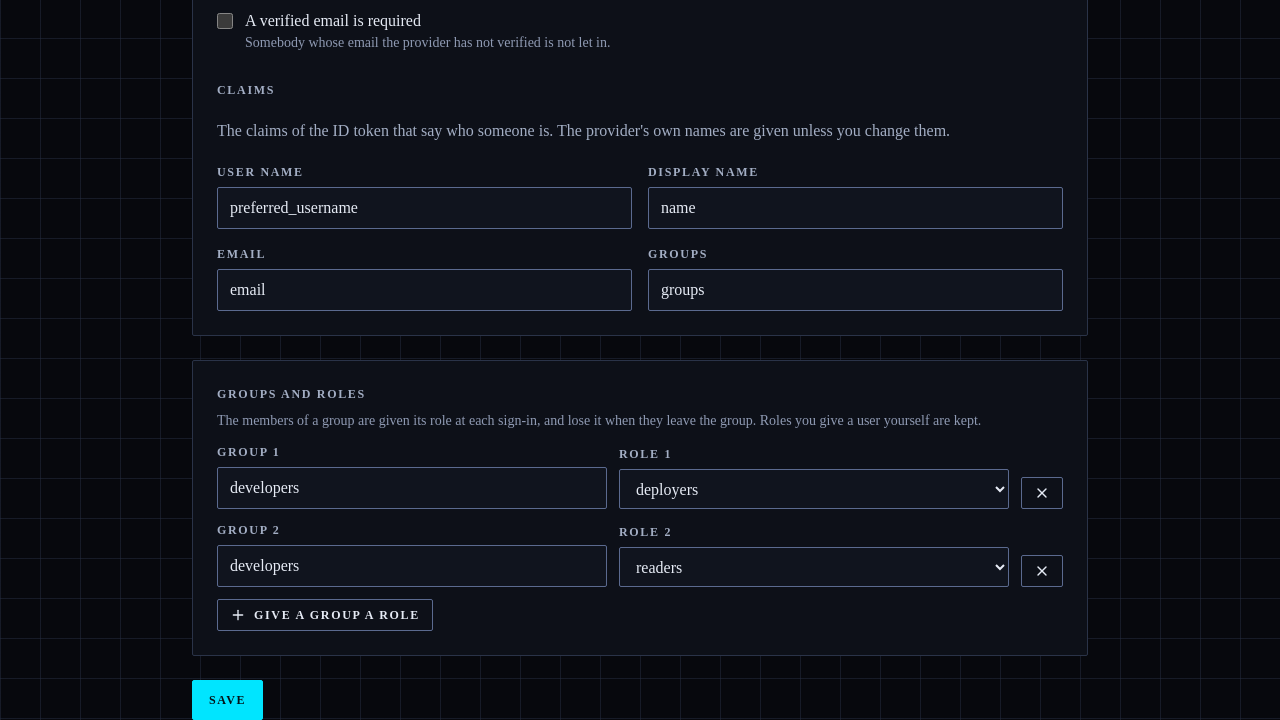
an OIDC source › opens with what it has, its mapping a row a role, and keeps its secret when saved
(page scrolled)
Expected: the field labelled "Group 1" holds "developers", left=217, top=467, right=607, bottom=509
Expected: the dropdown labelled "Role 2" shows "readers", left=619, top=547, right=1009, bottom=587
Click the button named "Remove row 1" at (1042, 493), box left=1021, top=477, right=1063, bottom=509
(page scrolled)
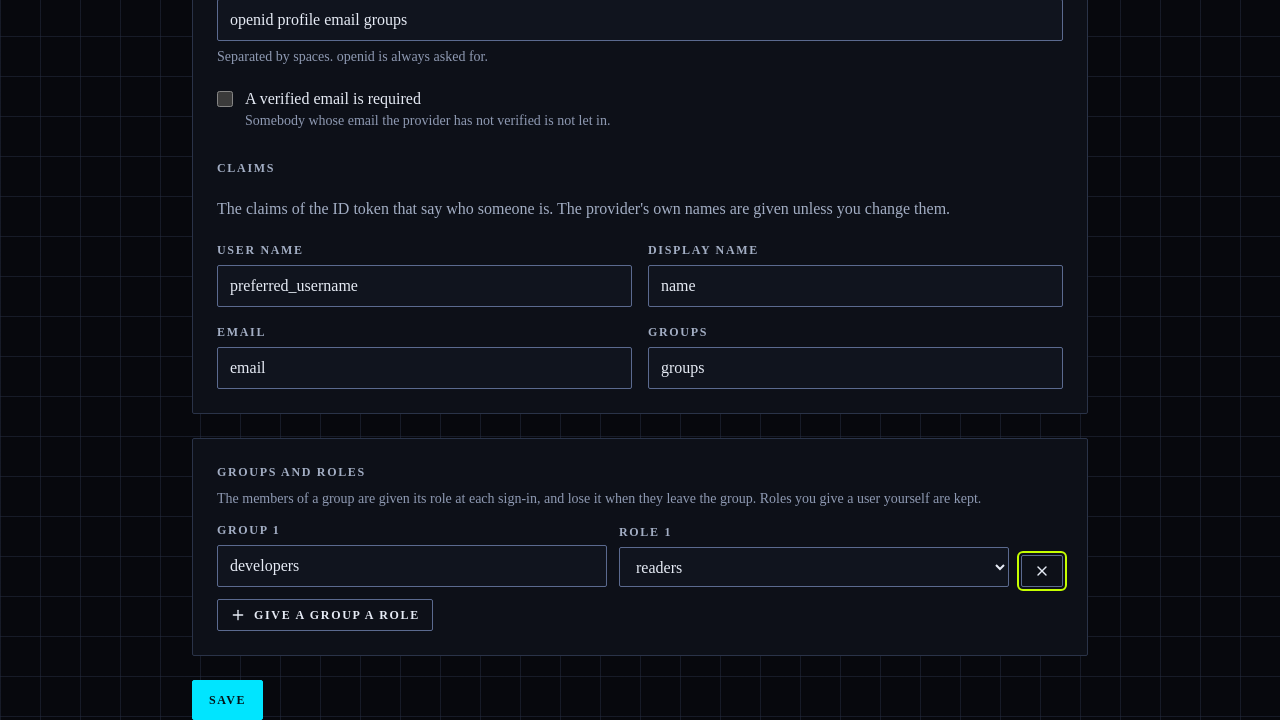
Click the button "Save" at (228, 700), box left=192, top=680, right=263, bottom=719
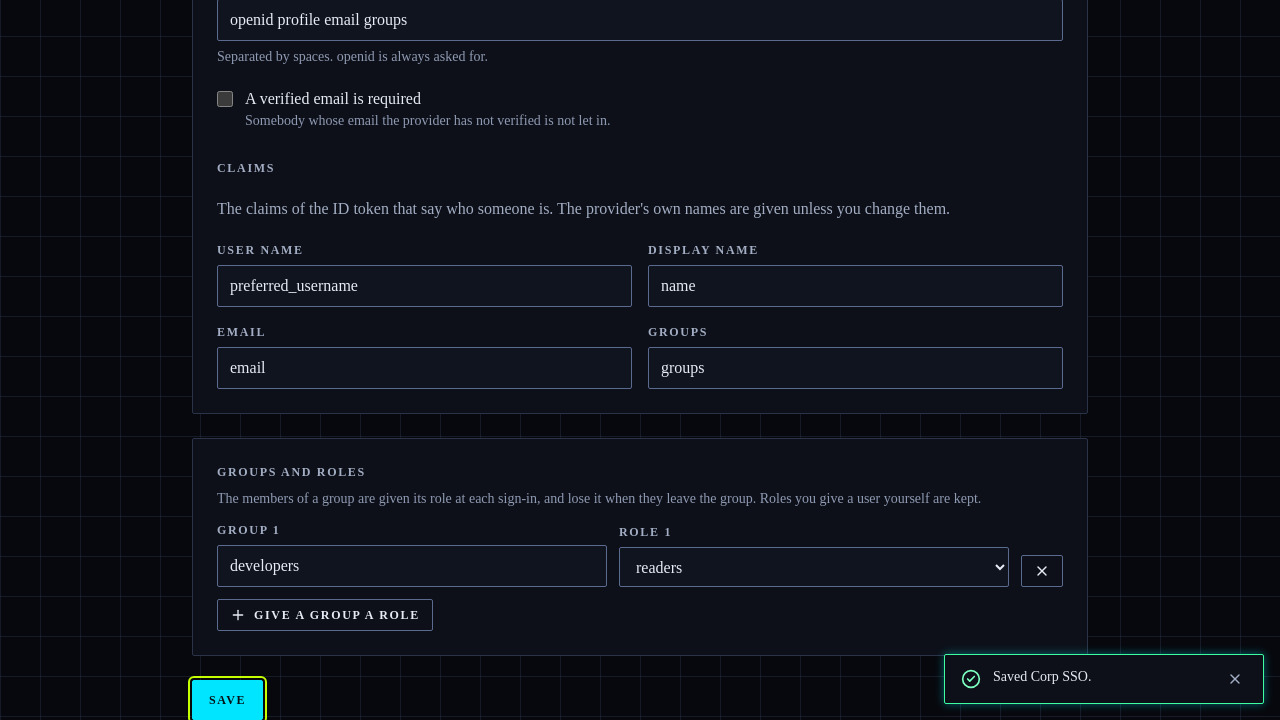
Expected: the element named "Notifications" reads "Saved Corp SSO.", left=993, top=669, right=1091, bottom=684
